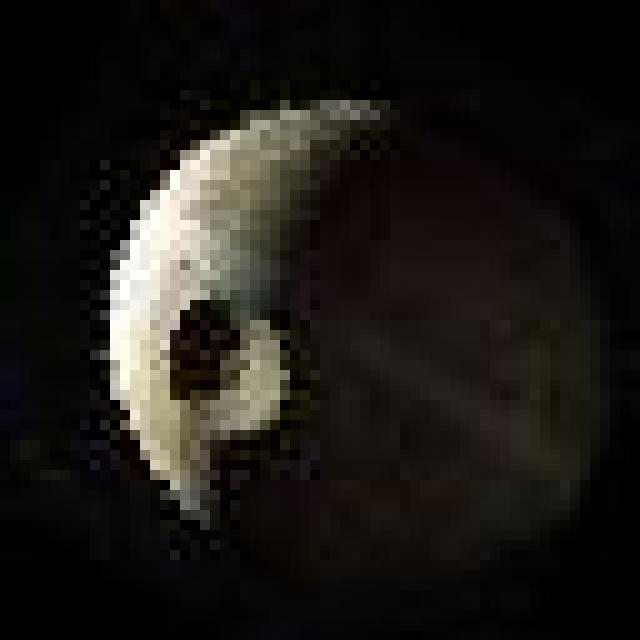Death Star: (90, 80, 612, 592)
